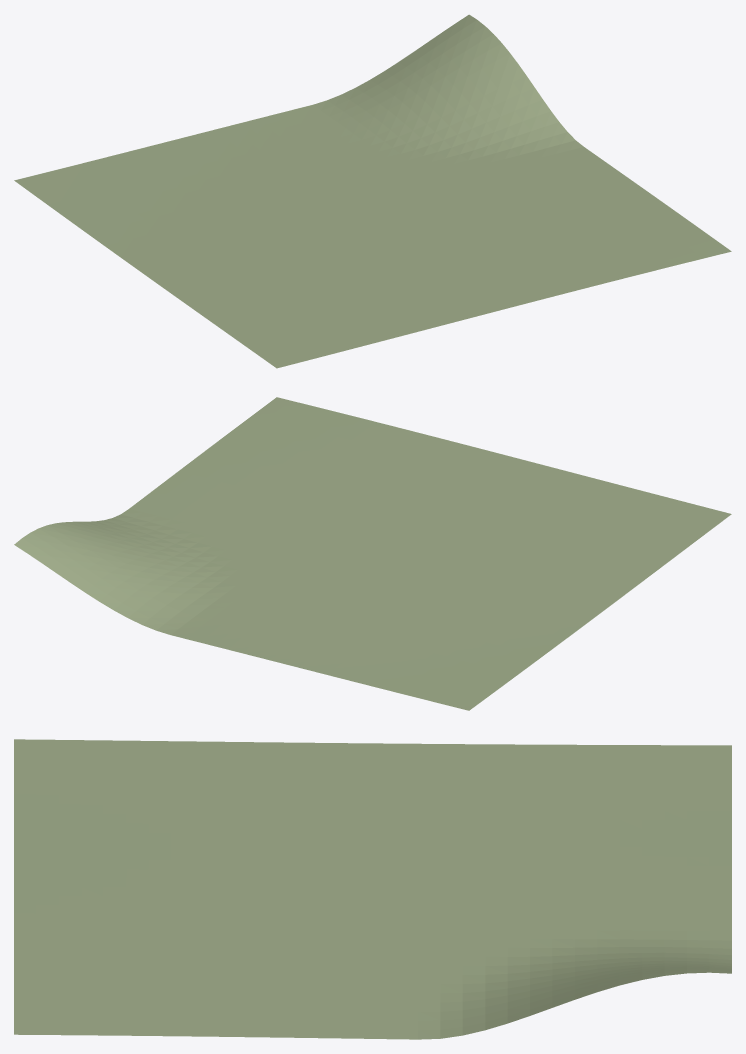
Rendered from desert-22-26.glb.
3 renders of one model, top to bottom at view 1: azimuth 30°, elevation 25°; view 2: azimuth 150°, elevation 25°; view 3: azimuth 270°, elevation 25°, orthographic. The views are drawn at different scales.
Visible parts, largest first — view 1: desert-22-26; view 2: desert-22-26; view 3: desert-22-26.
Part boxes in pixels (x1=…): desert-22-26: x1=14, y1=14, x2=731, y2=368; desert-22-26: x1=14, y1=397, x2=731, y2=710; desert-22-26: x1=14, y1=739, x2=731, y2=1039.
Size of the model in its own units: 512 by 59.85 by 512.
